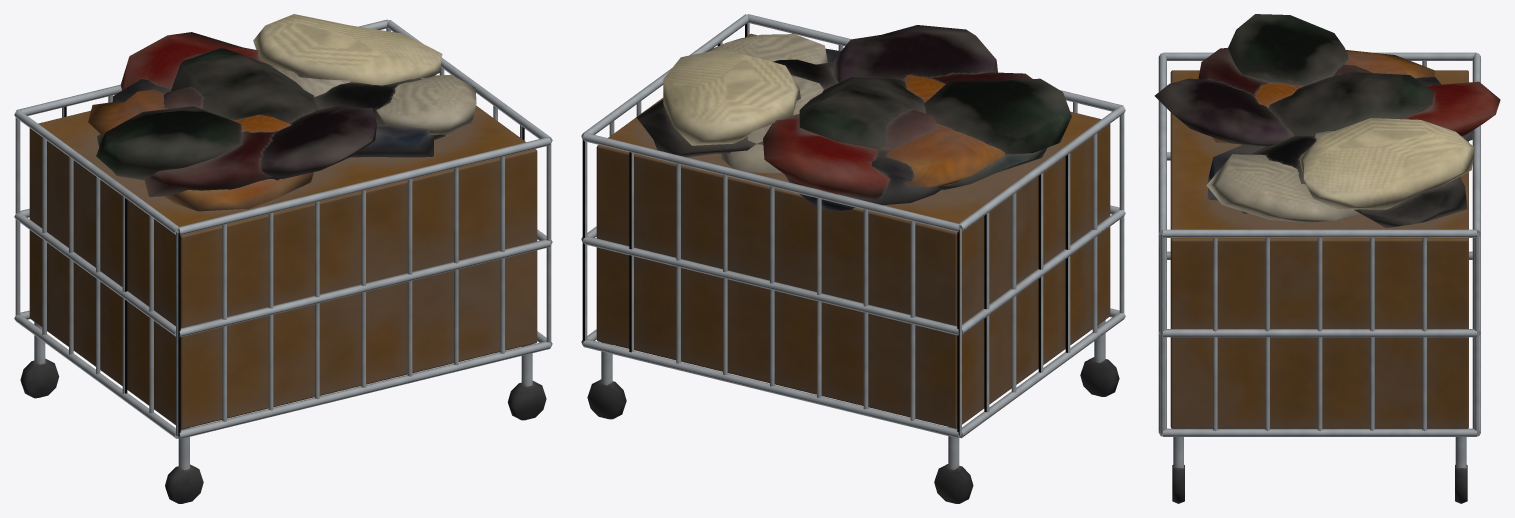
The model's file is ciuch_kosz.glb.
The picture shows the model from 3 angles, left to right: view 1: azimuth 30°, elevation 25°; view 2: azimuth 150°, elevation 25°; view 3: azimuth 270°, elevation 25°; orthographic projection. The views are drawn at different scales.
Visible parts, largest first — view 1: Kosz; view 2: Kosz; view 3: Kosz.
Part boxes in pixels (x1,y1,x2,y2): Kosz: [14, 14, 552, 503]; Kosz: [581, 14, 1125, 503]; Kosz: [1154, 14, 1500, 503].
Size of the model in its own units: 0.8246 by 0.6845 by 0.6617.
Materials: 1 (1 with a texture image).
